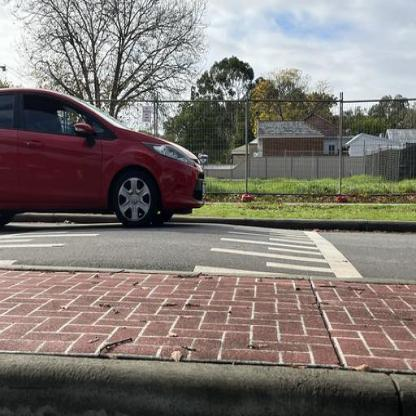Tire: (112, 168, 158, 228)
